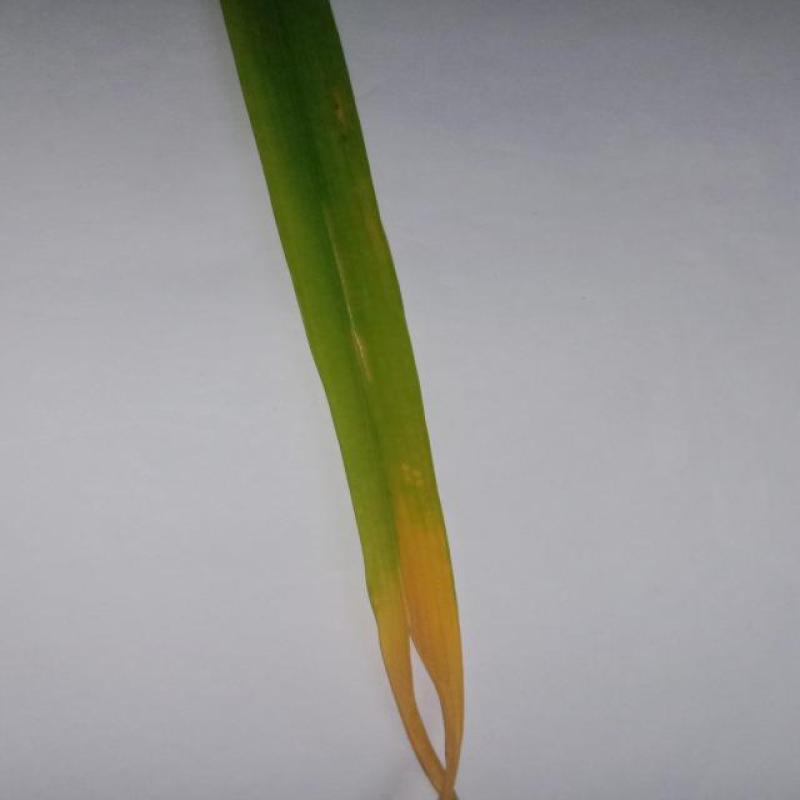Rice Tungro: (394, 479, 462, 699)
